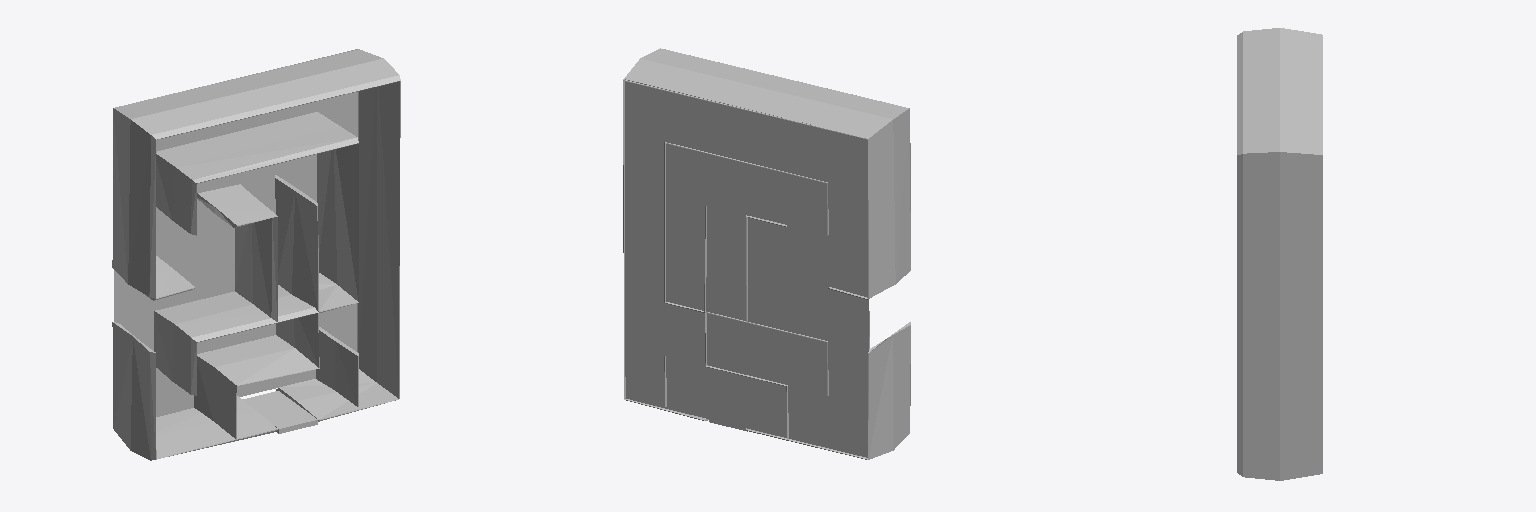
The model's file is Mazegood.obj.
3 renders of one model, left to right at view 1: azimuth 30°, elevation 25°; view 2: azimuth 150°, elevation 25°; view 3: azimuth 270°, elevation 25°, orthographic.
Parts seen in each view (by area): view 1: Maze; view 2: Maze; view 3: Maze.
Boxes of the visible parts, box(x1,y1,x2,y2) form: Maze: box(112, 49, 400, 460); Maze: box(623, 48, 910, 459); Maze: box(1237, 28, 1322, 480).
Bounding box in the file's own units: 11.52 × 14.41 × 3.34.